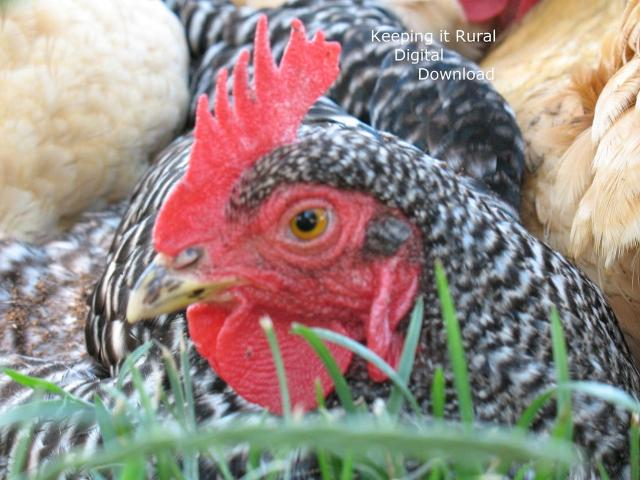Chicken: (83, 0, 638, 480)
